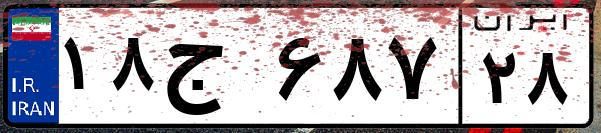1: (57, 26, 110, 100)
2: (475, 38, 525, 113)
6: (270, 28, 330, 110)
7: (385, 28, 445, 110)
8: (330, 28, 385, 110), (525, 38, 570, 115), (110, 28, 158, 98)
ج: (158, 20, 270, 120)
